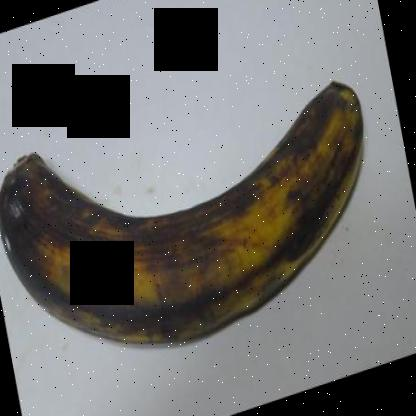overripe: (1, 70, 366, 350)
rotten: (1, 146, 66, 290)
